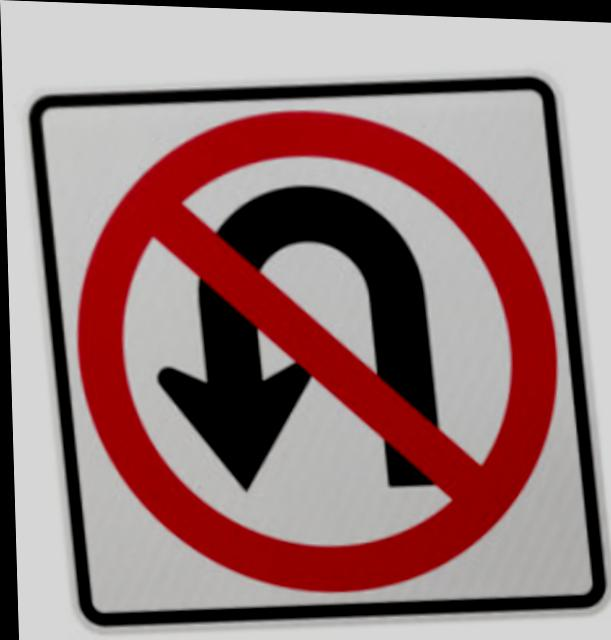not_u_turn_left: (69, 96, 561, 593)
